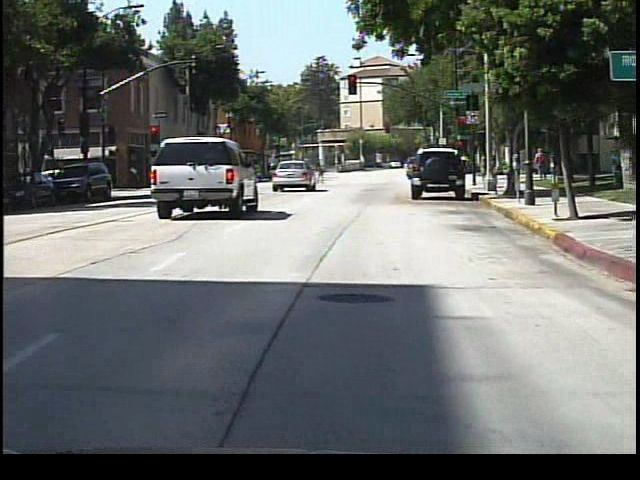person: (535, 147, 551, 185), (461, 153, 478, 182), (317, 158, 326, 187)
